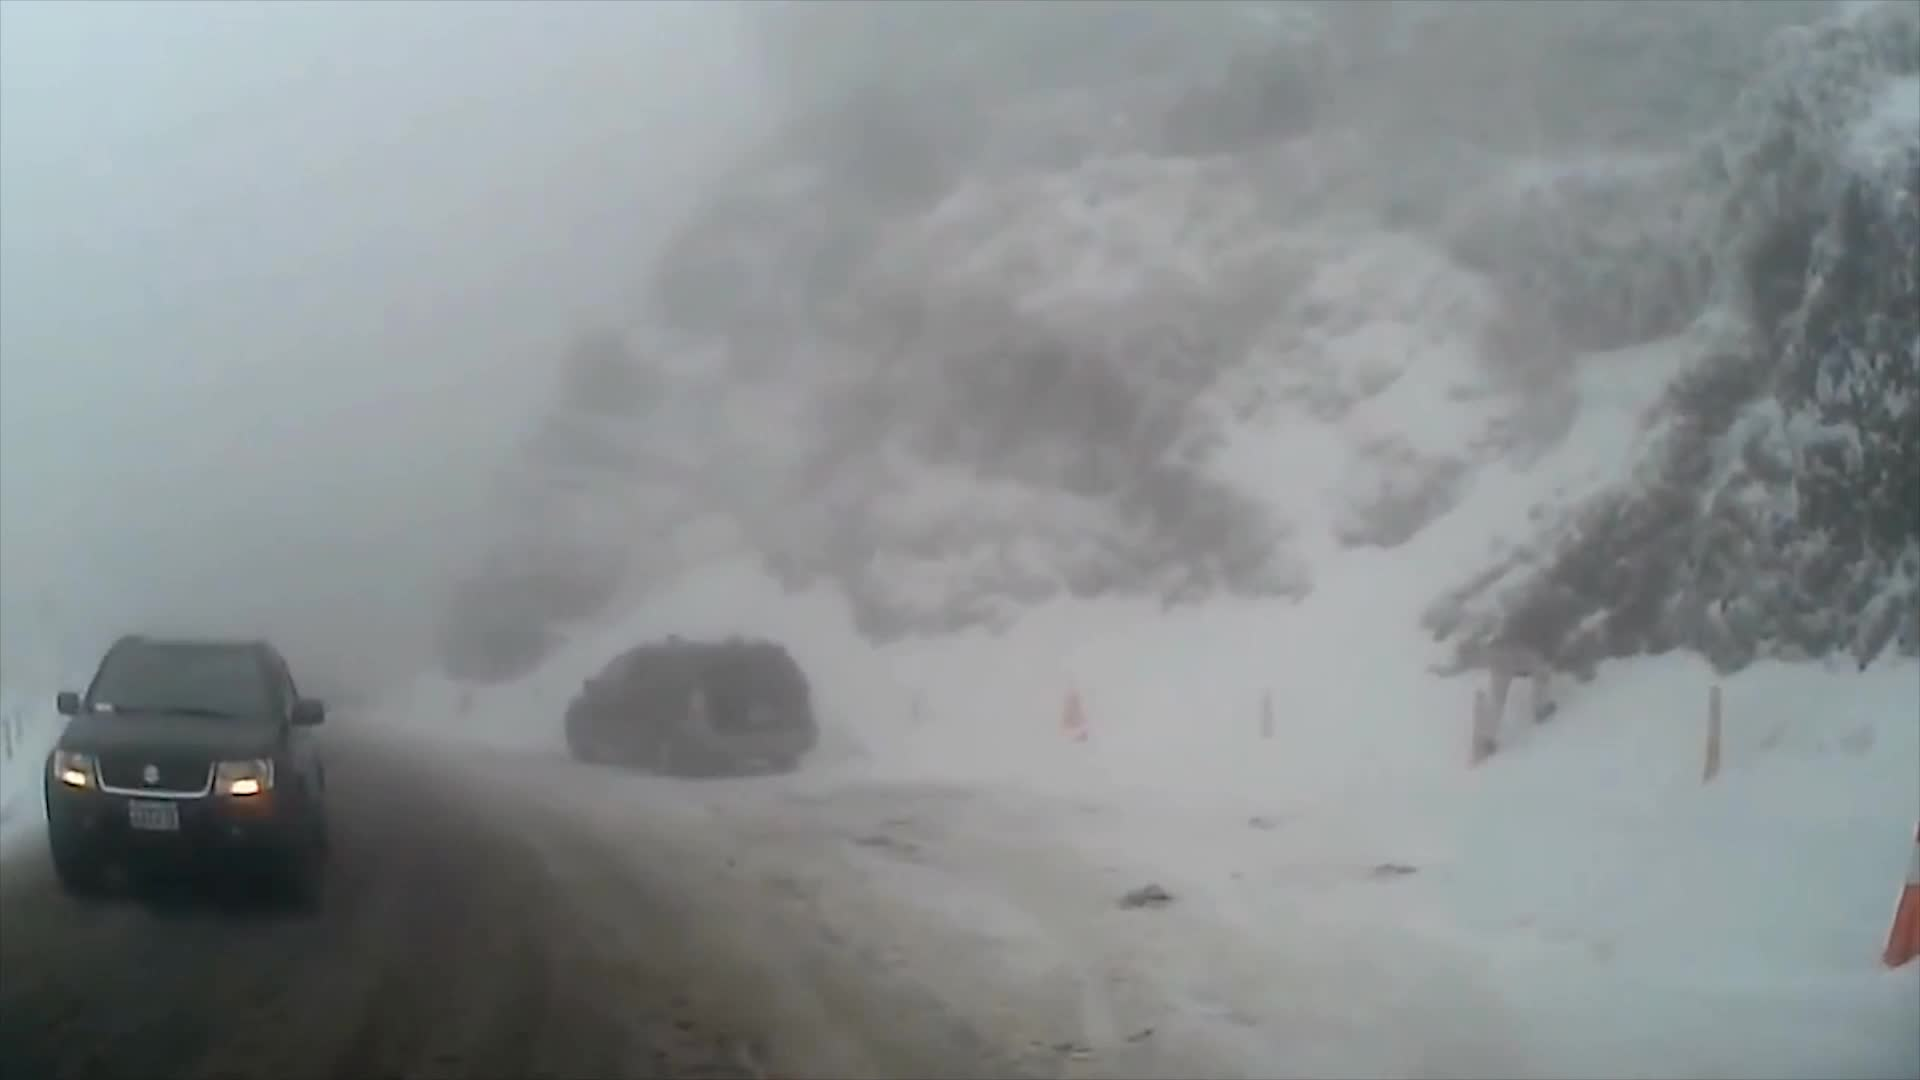vehicle: (40, 632, 336, 909), (563, 638, 814, 779)
